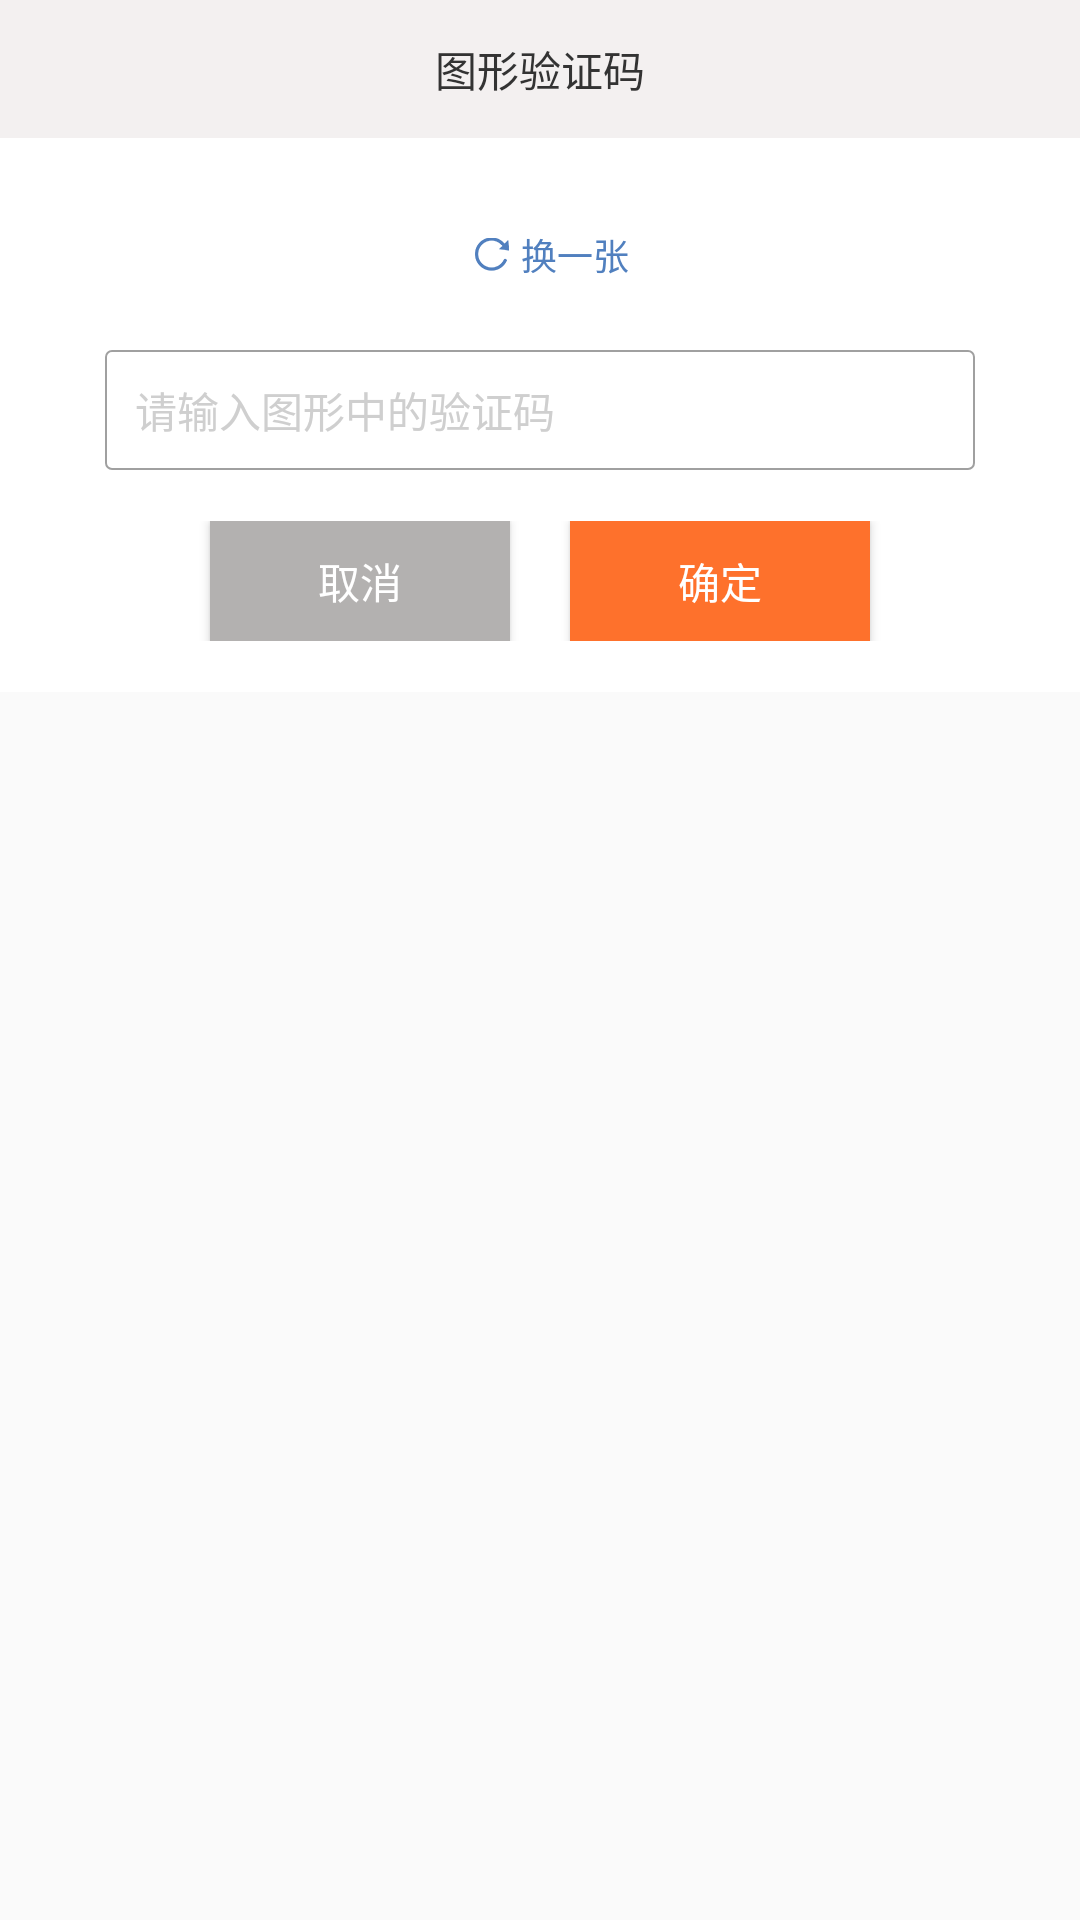

Icons on this 1080px x 1920px Android screen, each with the point to tap as [x,y]:
gengxin: [492,254]
